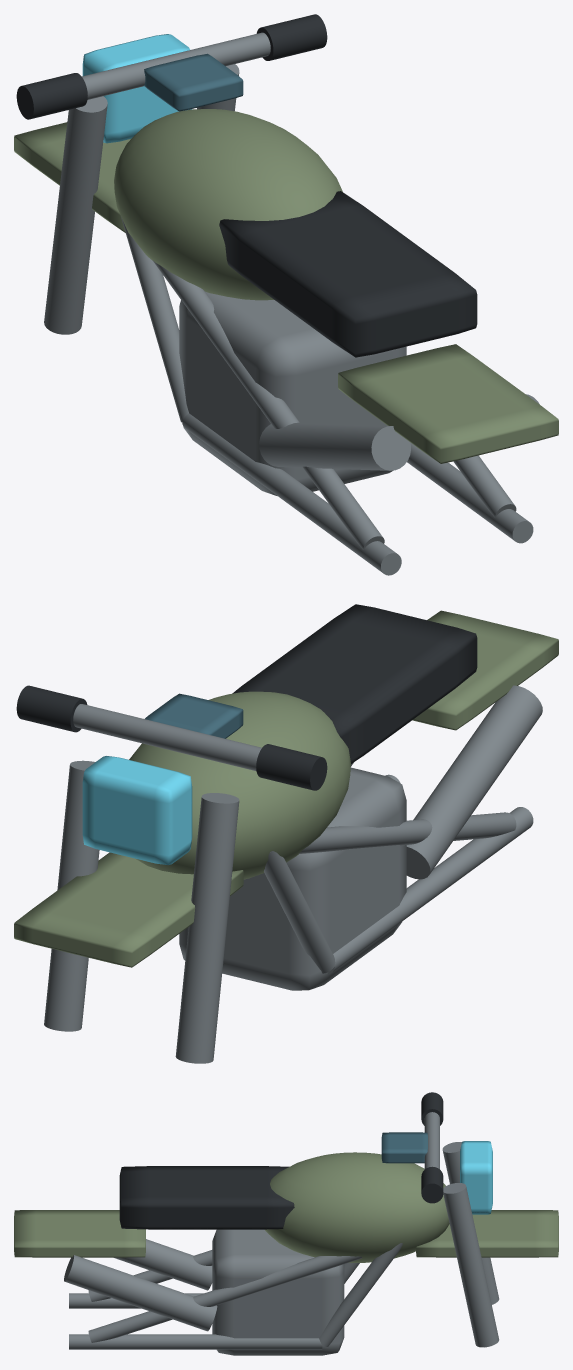
File: SM_TrailBike.glb
3 views of the same model, one above another, from view 1: azimuth 30°, elevation 25°; view 2: azimuth 150°, elevation 25°; view 3: azimuth 270°, elevation 25° (orthographic). The views are drawn at different scales.
Parts seen in each view (by area): view 1: SM_TrailBike; view 2: SM_TrailBike; view 3: SM_TrailBike.
Boxes of the visible parts, x1=… form: SM_TrailBike: x1=14, y1=14, x2=558, y2=575; SM_TrailBike: x1=14, y1=604, x2=558, y2=1063; SM_TrailBike: x1=14, y1=1092, x2=558, y2=1355.
Bounding box in the file's own units: 0.98 × 1.01 × 2.48.
